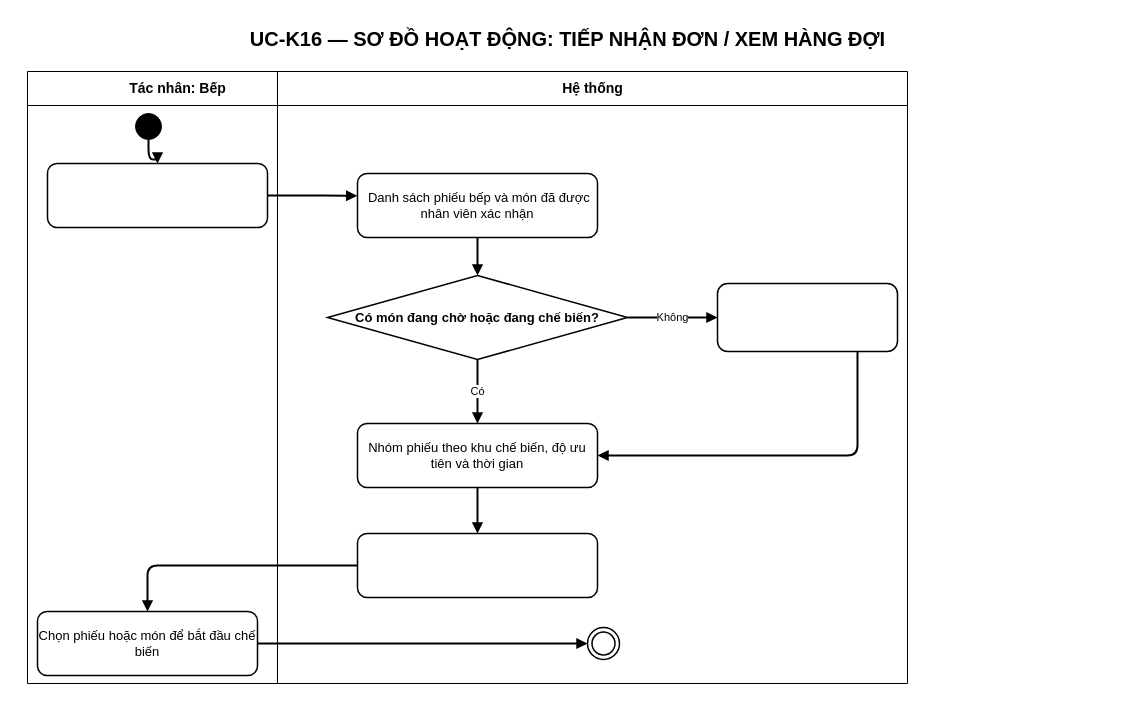
Image size: 1134x701. Some labels were removed from this diagram. Here are the shapes that lost their labels. From the top down, the centre of each, then its label:
At point (157, 195): "Mở màn hình hàng đợi bếp".
At point (807, 317): "Hiển thị hàng đợi trống và chờ tin mới".
At point (477, 565): "Nhận tin khi có món mới được nhân viên xác nhận".
